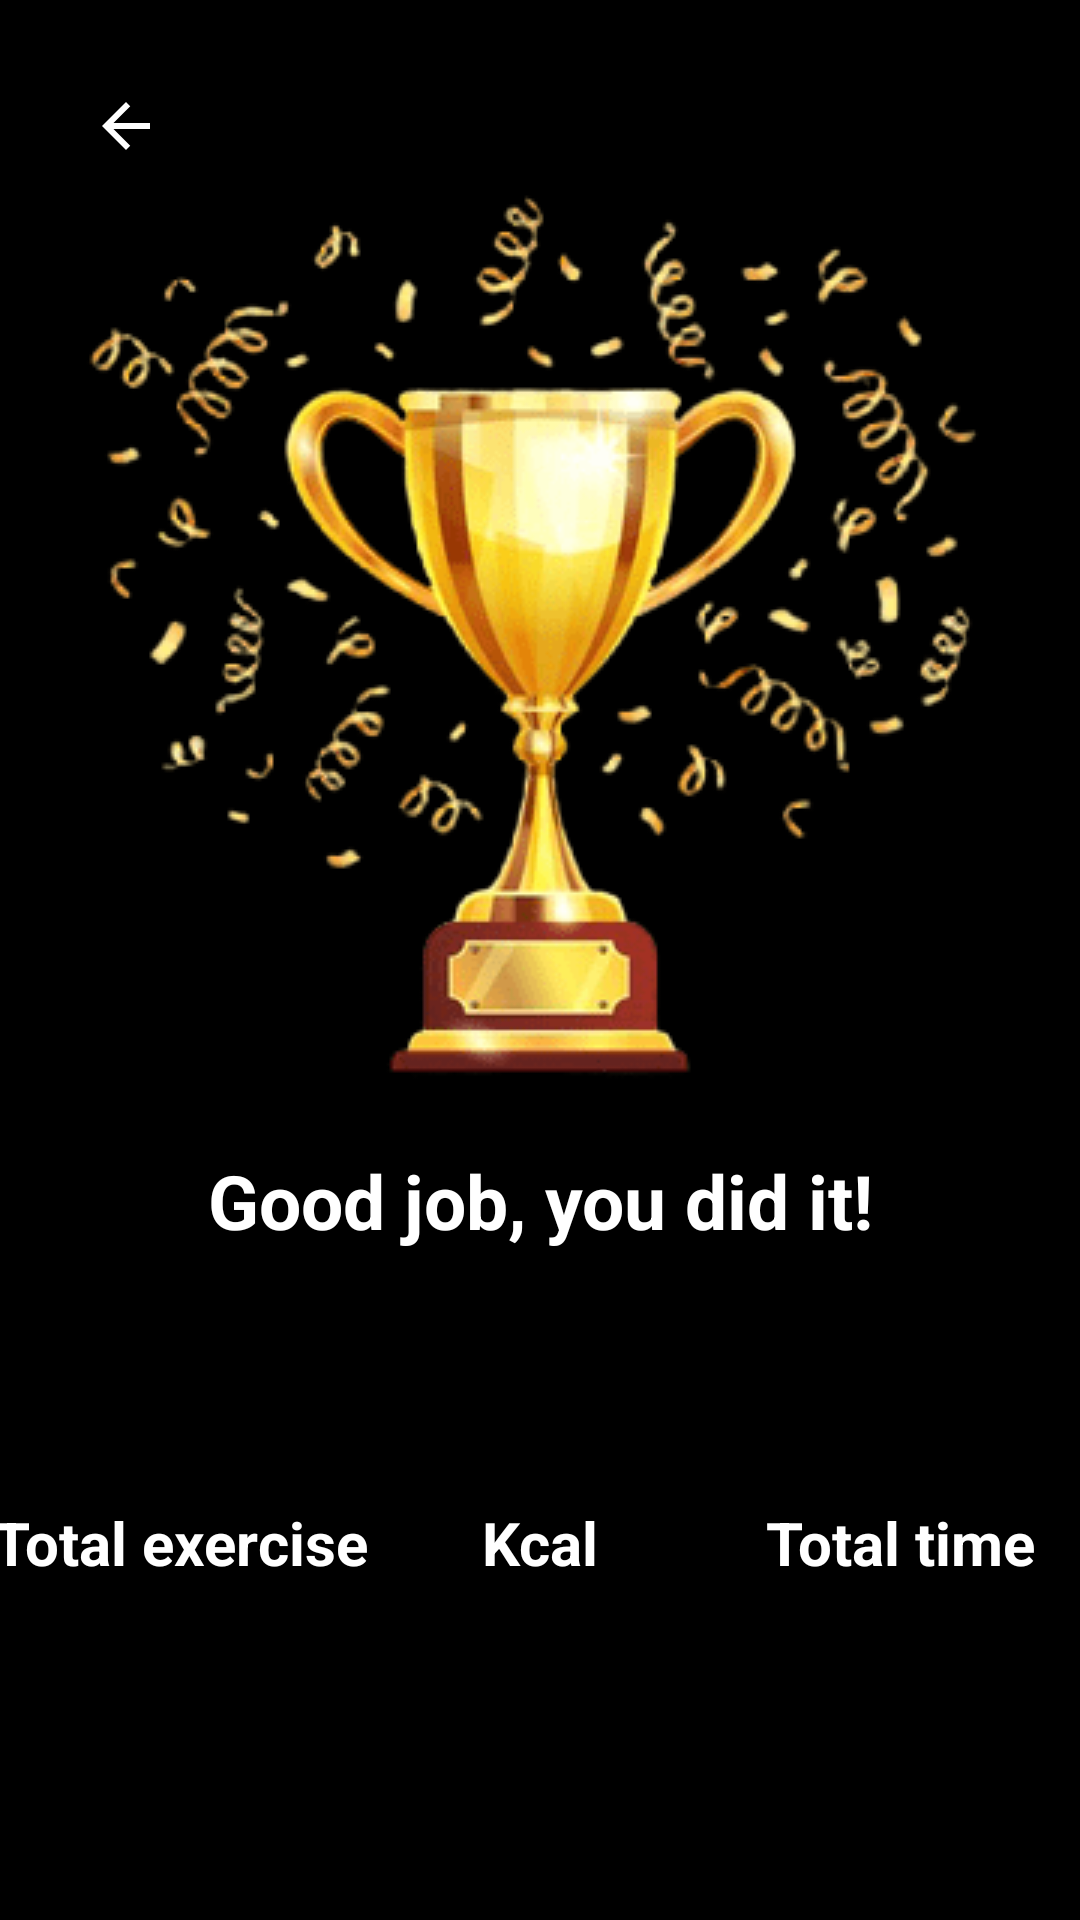

Icons on this 1080*1920 Android screen, each with the point to tap as [x,y]:
arrow: [126,126]
